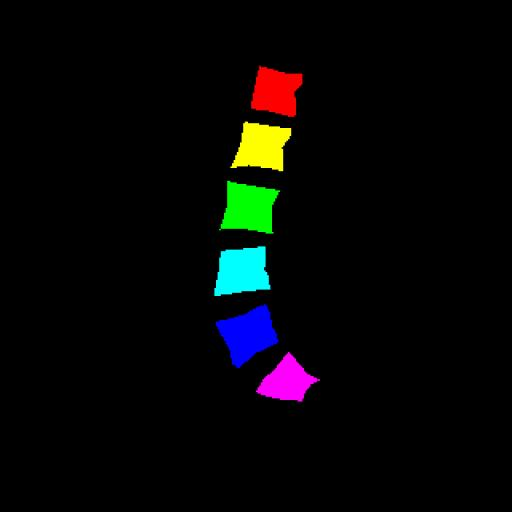L1: (251, 66, 302, 117)
L2: (231, 122, 291, 171)
L3: (221, 181, 279, 234)
L4: (214, 246, 270, 296)
L5: (216, 305, 278, 368)
S1: (257, 352, 319, 402)
